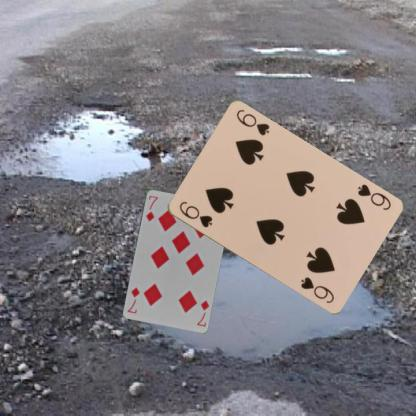6s: (176, 198, 214, 230), (354, 181, 392, 212)
7d: (194, 298, 210, 328), (143, 193, 159, 222)
